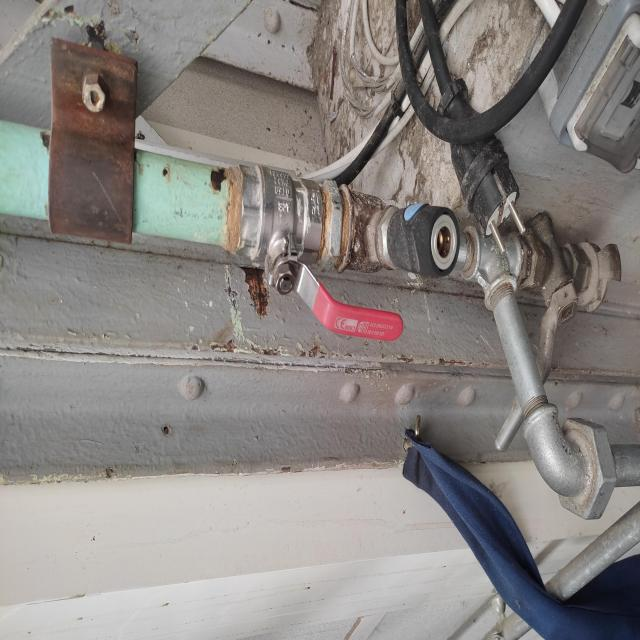opened_valve: (234, 159, 405, 347)
